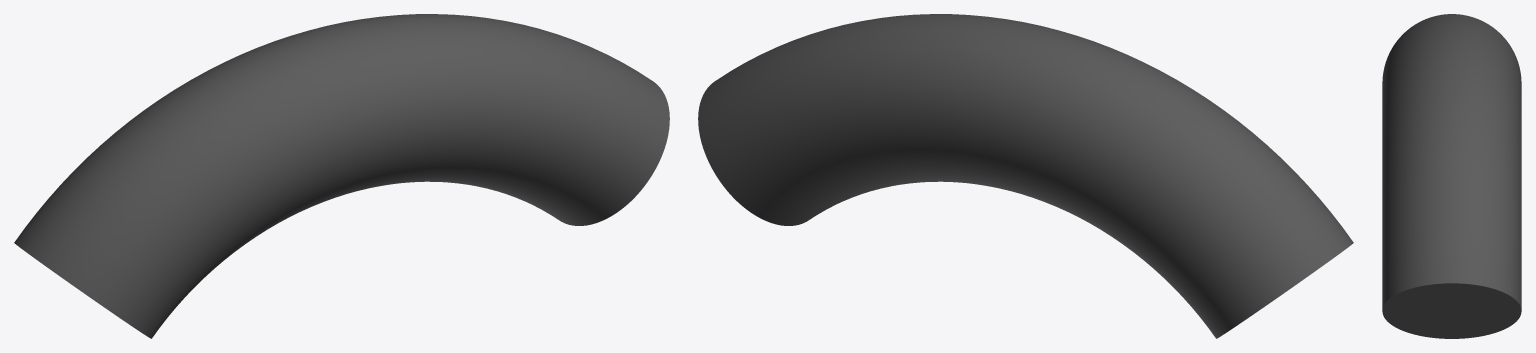
The picture shows the model from 3 angles, left to right: view 1: azimuth 30°, elevation 25°; view 2: azimuth 150°, elevation 25°; view 3: azimuth 270°, elevation 25°; orthographic projection. The views are drawn at different scales.
Parts seen in each view (by area): view 1: mesh_id27; view 2: mesh_id27; view 3: mesh_id27.
Part boxes in pixels (x1,y1,x2,y2): mesh_id27: (14, 14, 669, 338); mesh_id27: (698, 14, 1353, 338); mesh_id27: (1382, 14, 1521, 338).
Size of the model in its own units: 0.2697 by 0.1011 by 0.0627.
1 material, 1 textured.
